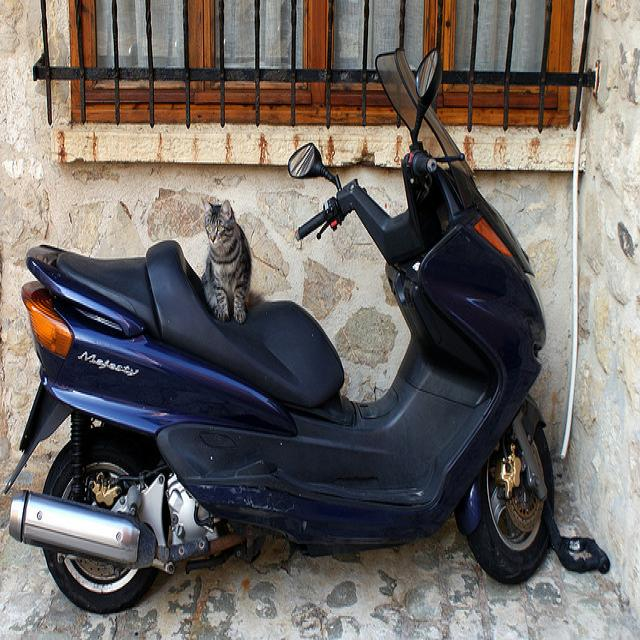motor: (0, 36, 560, 620)
